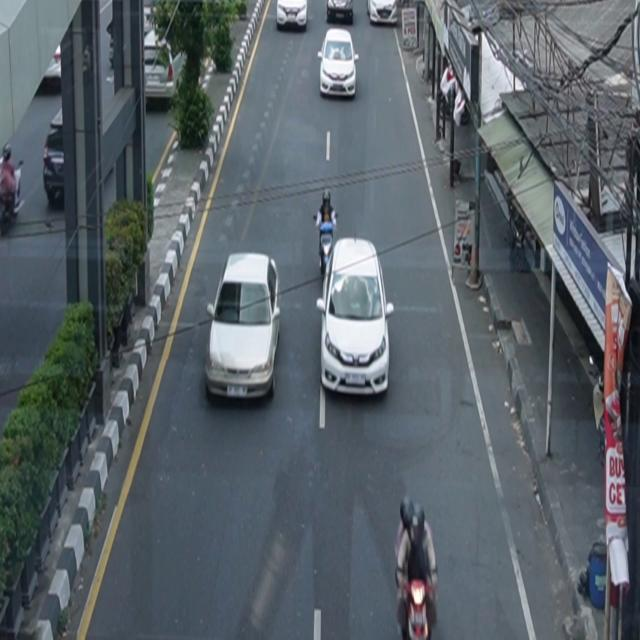car: (317, 238, 395, 398), (205, 252, 281, 402), (318, 29, 360, 100), (277, 1, 308, 31), (367, 1, 398, 26), (327, 1, 354, 25)
